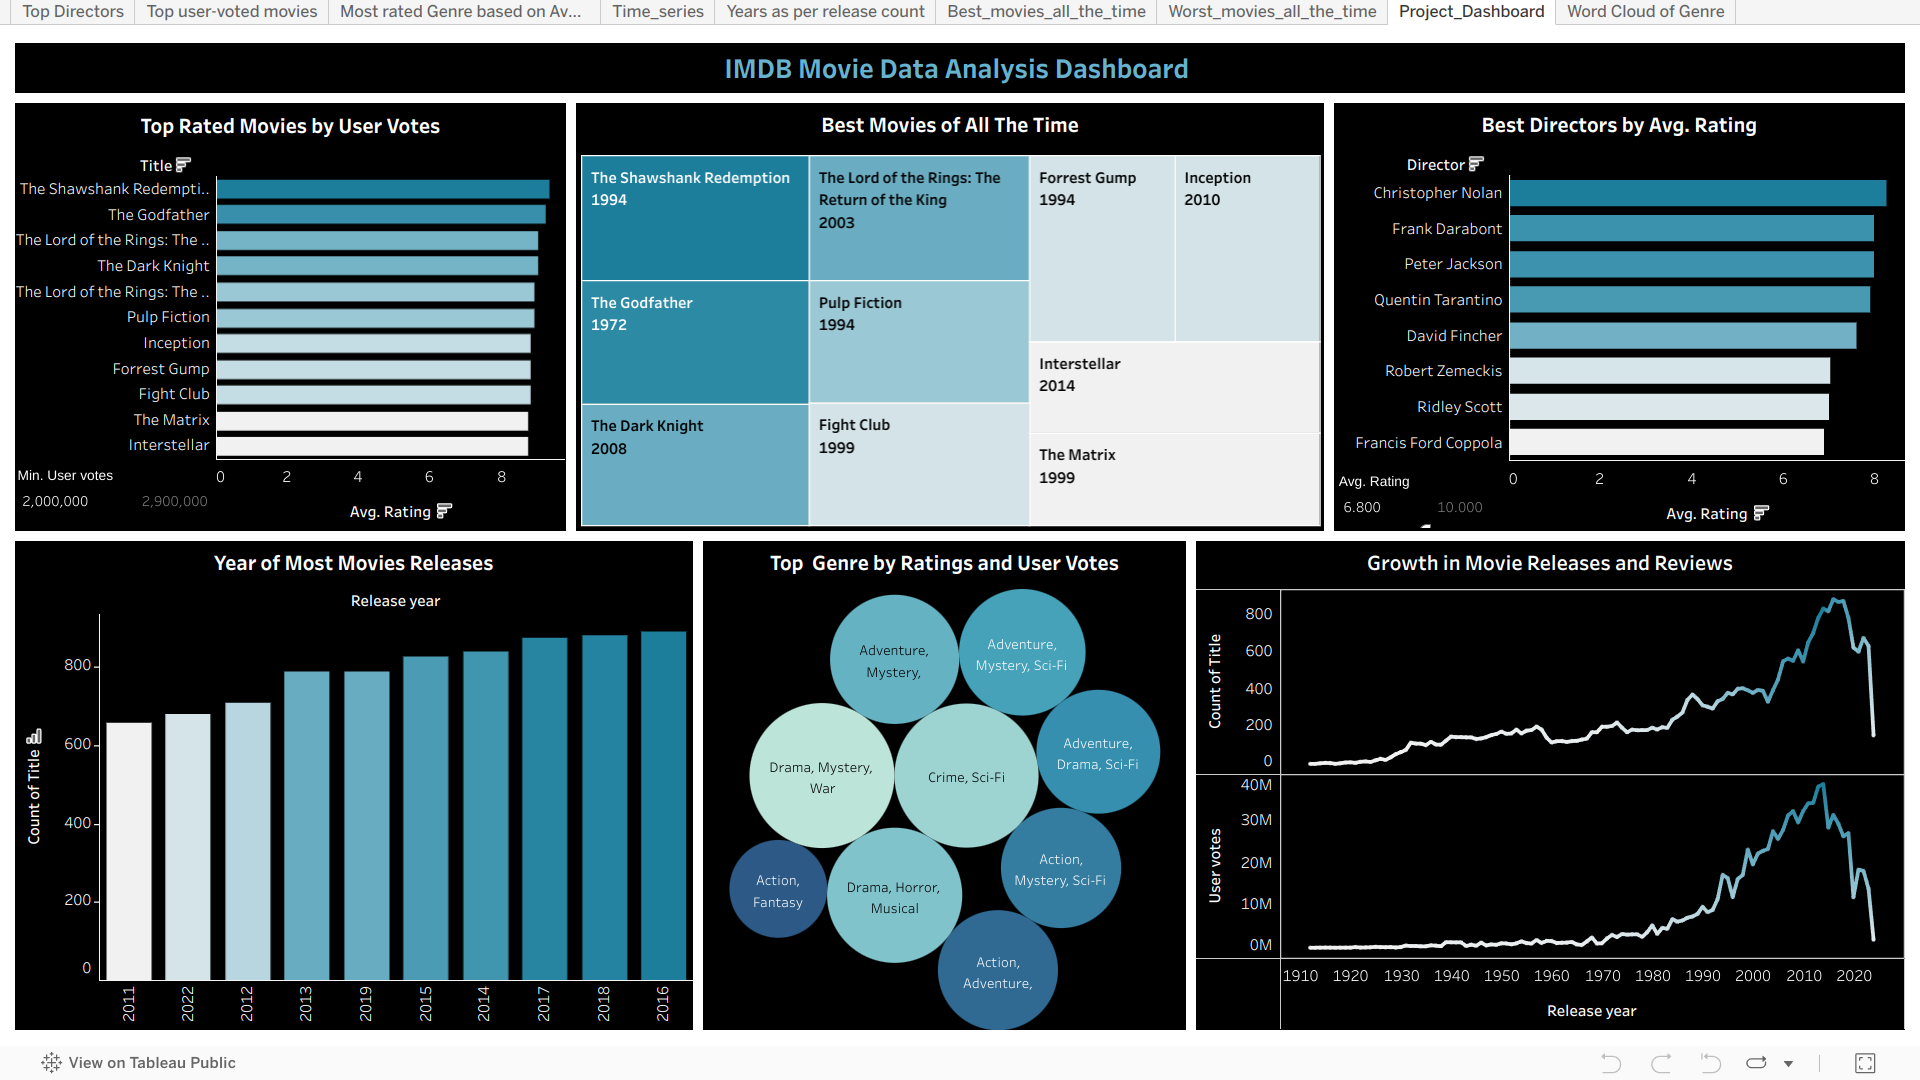

The dashboard page shown, as its layout file describes it:
{"tool":"tableau","page":{"name":"Project_Dashboard","canvas":[1000,1000],"units":"permille","ordinal":0},"visuals":[{"type":"text","box":[4.8,10,990.3,58.7]},{"type":"worksheet","title":"Top user-voted movies","mark":"Automatic","rows":["Title"],"cols":["Rating"],"box":[4.8,68.7,292.7,431.3]},{"type":"worksheet","title":"Best_movies_all_the_time","mark":"Automatic","box":[297.5,68.7,394.7,431.3]},{"type":"worksheet","title":"Top Directors","mark":"Automatic","rows":["Director"],"cols":["Rating"],"box":[692.2,68.7,303,431.3]},{"type":"filter","title":"Top user-voted movies","param":"[federated.02ttuab0lmxq6k1b809mm1oz8f7z].[min:User votes:qk]","box":[9.1,430,101.4,62.5]},{"type":"filter","title":"Top Directors","param":"[federated.02ttuab0lmxq6k1b809mm1oz8f7z].[avg:Rating:qk]","box":[697,436.2,77.9,55]},{"type":"worksheet","title":"Years as per release count","mark":"Automatic","rows":["Title"],"cols":["Release year"],"box":[4.8,500,358.5,490]},{"type":"worksheet","title":"Most rated Genre based on Avg rating","mark":"Circle","box":[363.3,500,257.1,490]},{"type":"worksheet","title":"Time_series","mark":"Automatic","rows":["Title","User votes"],"cols":["Release year"],"box":[620.4,500,374.8,490]}]}

Visuals, with their boxes on the dashboard's canvas, which has no fixed pixel size, in thousandths of its width and height (x1, y1, x2, y2). These are canvas units, not pixel positions in the 1920x1080 screenshot, which may show the page scaled, cropped or inside an application window:
text: (5,10,995,69)
"Top user-voted movies" worksheet: (5,69,298,500)
"Best_movies_all_the_time" worksheet: (298,69,692,500)
"Top Directors" worksheet: (692,69,995,500)
"Top user-voted movies" filter: (9,430,110,492)
"Top Directors" filter: (697,436,775,491)
"Years as per release count" worksheet: (5,500,363,990)
"Most rated Genre based on Avg rating" worksheet (Circle marks): (363,500,620,990)
"Time_series" worksheet: (620,500,995,990)
